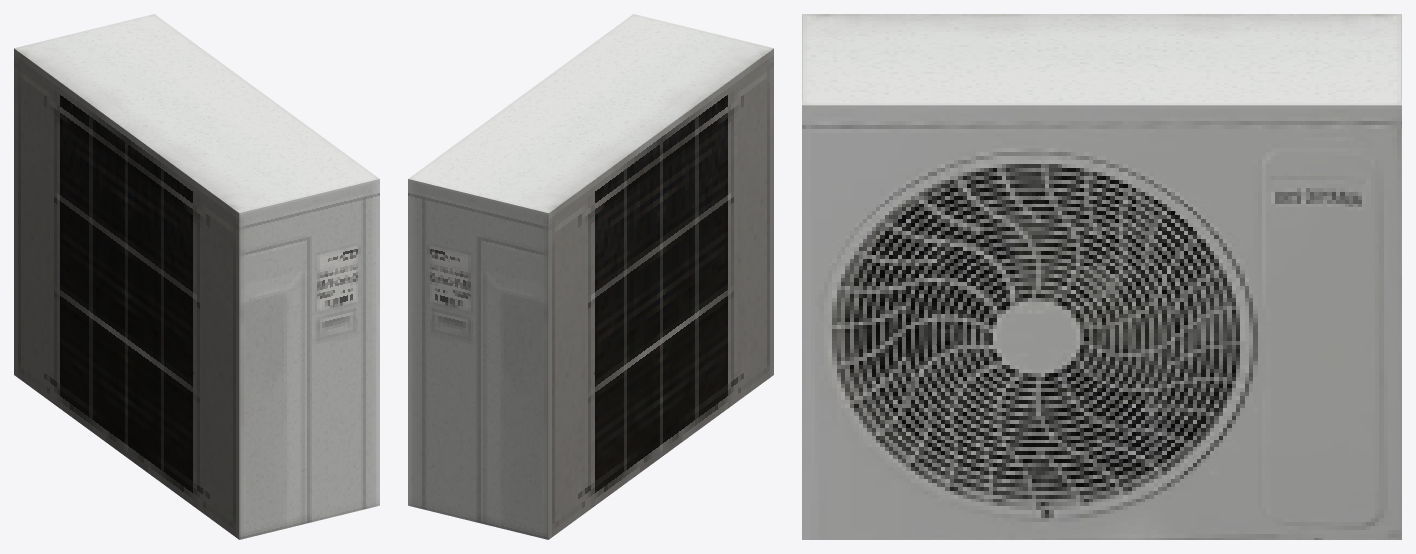
The model's file is ACUnit.glb.
The picture shows the model from 3 angles, left to right: view 1: azimuth 30°, elevation 25°; view 2: azimuth 150°, elevation 25°; view 3: azimuth 270°, elevation 25°; orthographic projection. The views are drawn at different scales.
Visible parts, largest first — view 1: AC unit; view 2: AC unit; view 3: AC unit.
Boxes of the visible parts, x1,y1,x2,y2 form: AC unit: (14,14,379,539); AC unit: (408,14,773,539); AC unit: (802,14,1401,539).
Bounding box in the file's own units: 0.1797 × 0.3995 × 0.4995.
1 material, 1 textured.
